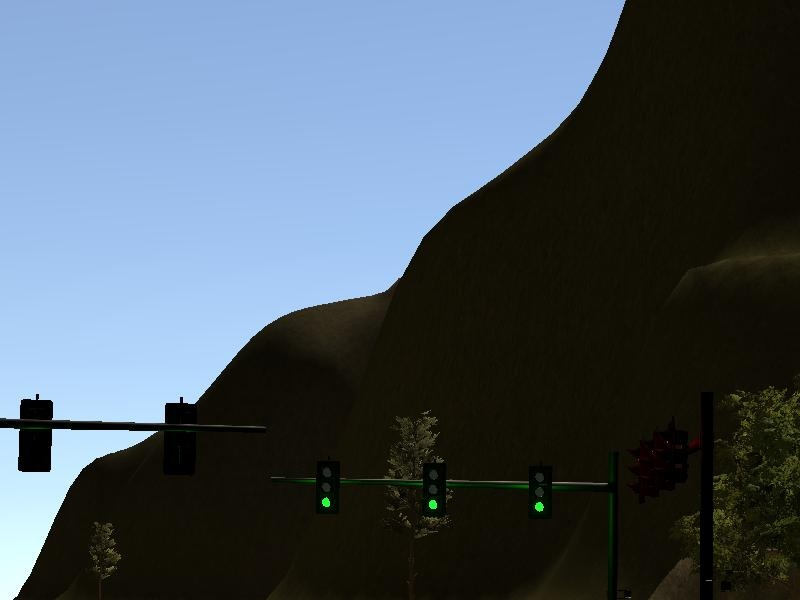Green: (528, 466, 553, 519), (422, 462, 446, 517), (315, 461, 339, 515)
